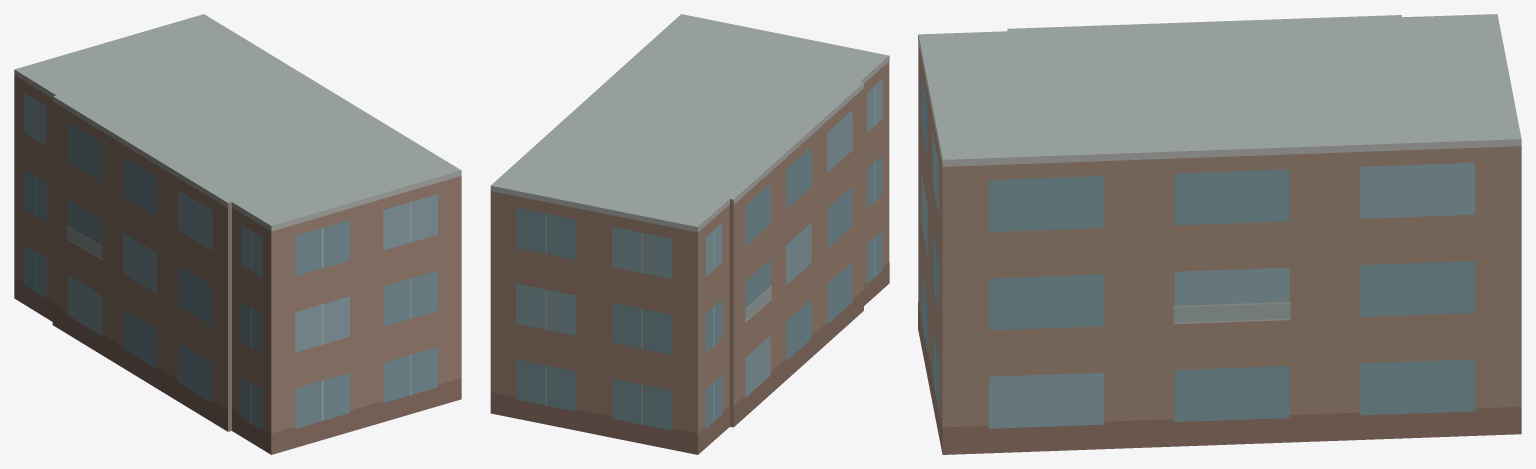
Rendered from survey-upis-32612084.glb.
3 renders of one model, left to right at view 1: azimuth 30°, elevation 25°; view 2: azimuth 150°, elevation 25°; view 3: azimuth 270°, elevation 25°, orthographic. The views are drawn at different scales.
Visible parts, largest first — view 1: survey-upis-32612084.tmp; view 2: survey-upis-32612084.tmp; view 3: survey-upis-32612084.tmp.
Part boxes in pixels (bbox=[...]): survey-upis-32612084.tmp: bbox=[14, 14, 461, 454]; survey-upis-32612084.tmp: bbox=[490, 14, 889, 454]; survey-upis-32612084.tmp: bbox=[918, 14, 1521, 454].
Size of the model in its own units: 10.94 by 10.3 by 19.11.
